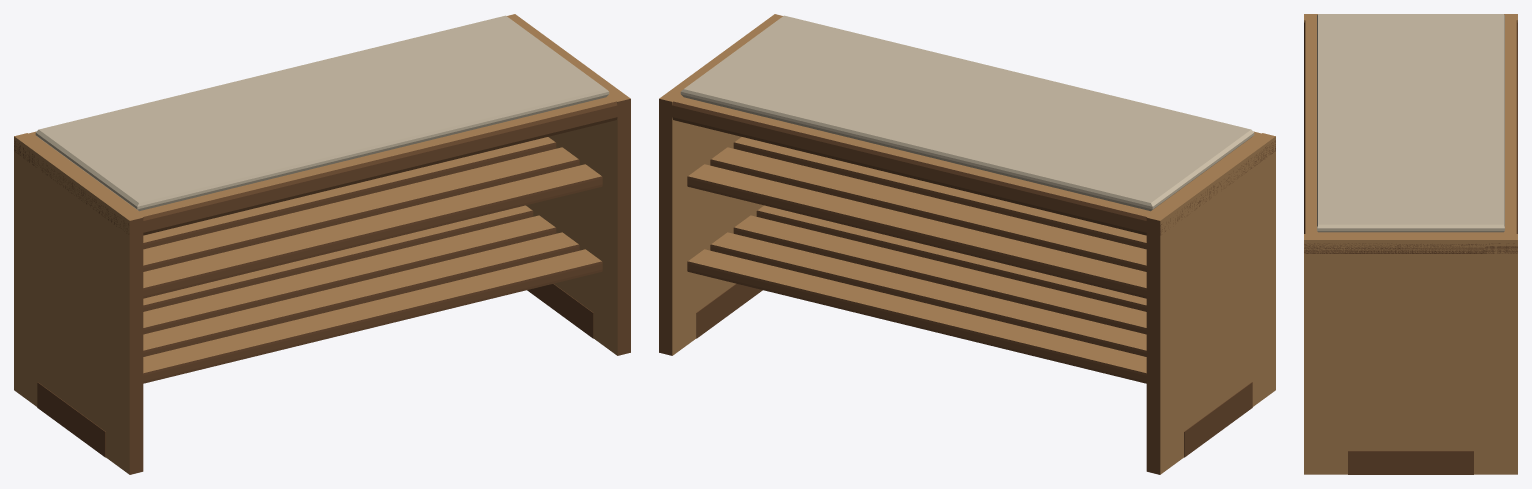
File: FN_Bench_Shoe.obj
3 views of the same model, side by side, from view 1: azimuth 30°, elevation 25°; view 2: azimuth 150°, elevation 25°; view 3: azimuth 270°, elevation 25° (orthographic). The views are drawn at different scales.
Parts seen in each view (by area): view 1: FN_Bench_Shoe; view 2: FN_Bench_Shoe; view 3: FN_Bench_Shoe.
Part boxes in pixels (x1,y1,x2,y2): FN_Bench_Shoe: (14, 14, 630, 474); FN_Bench_Shoe: (659, 14, 1275, 474); FN_Bench_Shoe: (1304, 14, 1517, 474).
Bounding box in the file's own units: 0.902 × 0.45 × 0.36.
1 material, 1 textured.
